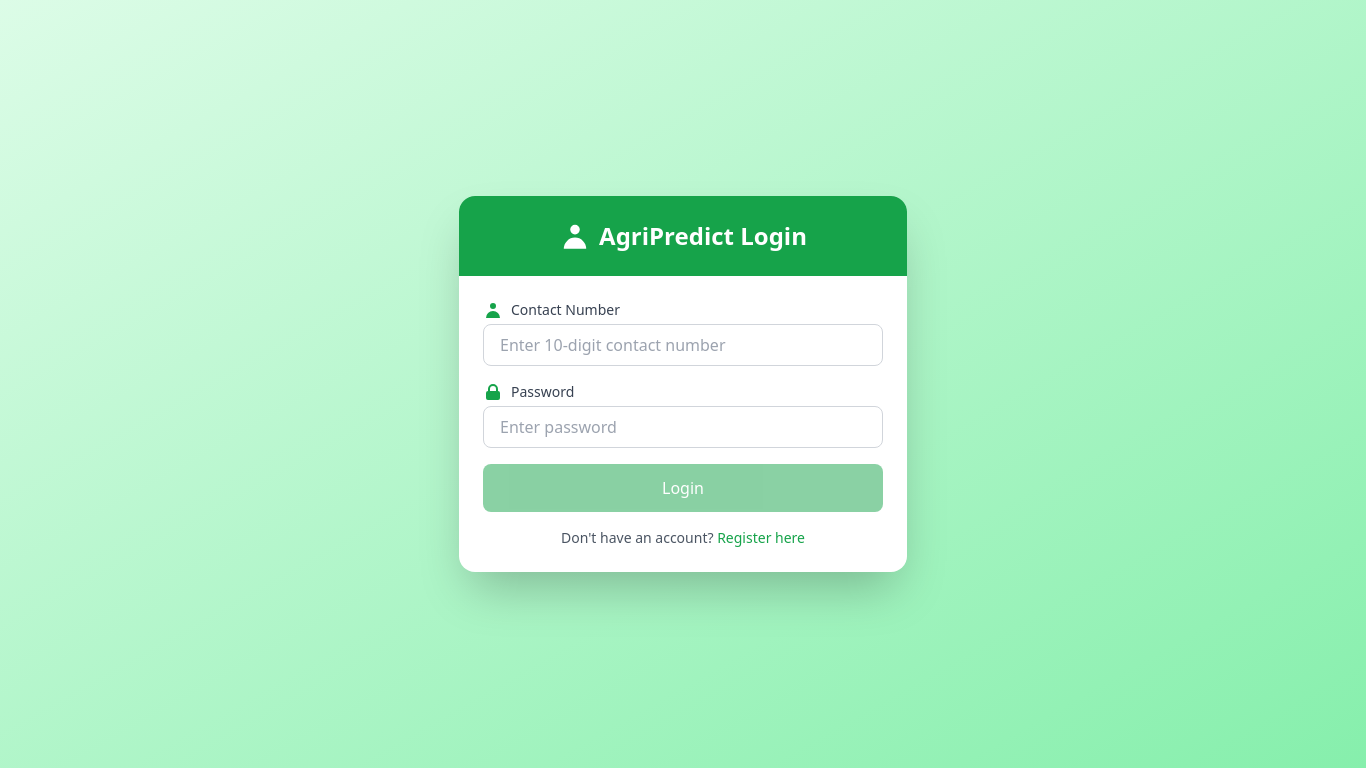
Login Component › displays error message when login fails
The image size is (1366, 768).
In the field with placeholder "Enter 10-digit contact number": (683, 345) [483,324,883,366], type "9876543210"
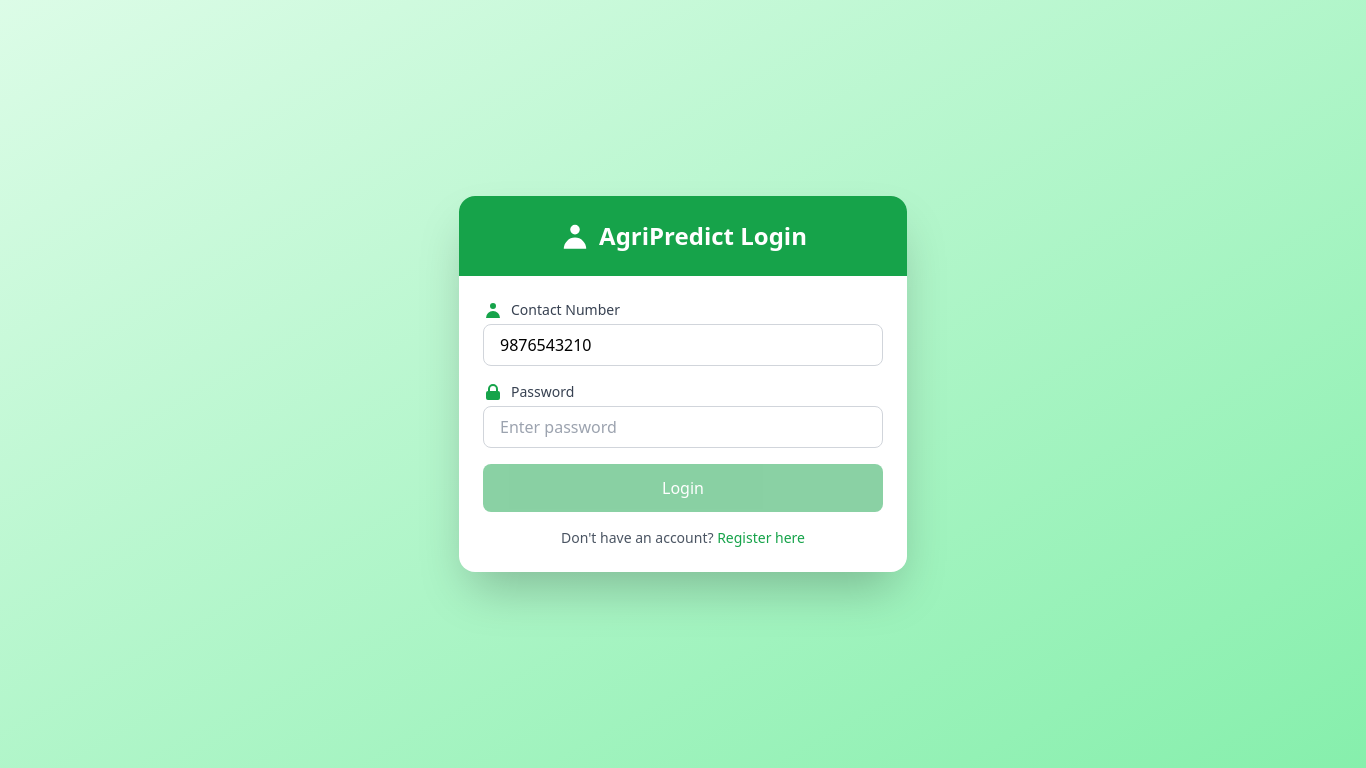
In the password field with placeholder "Enter password": (683, 427) [483,406,883,448], type "WrongPass123"
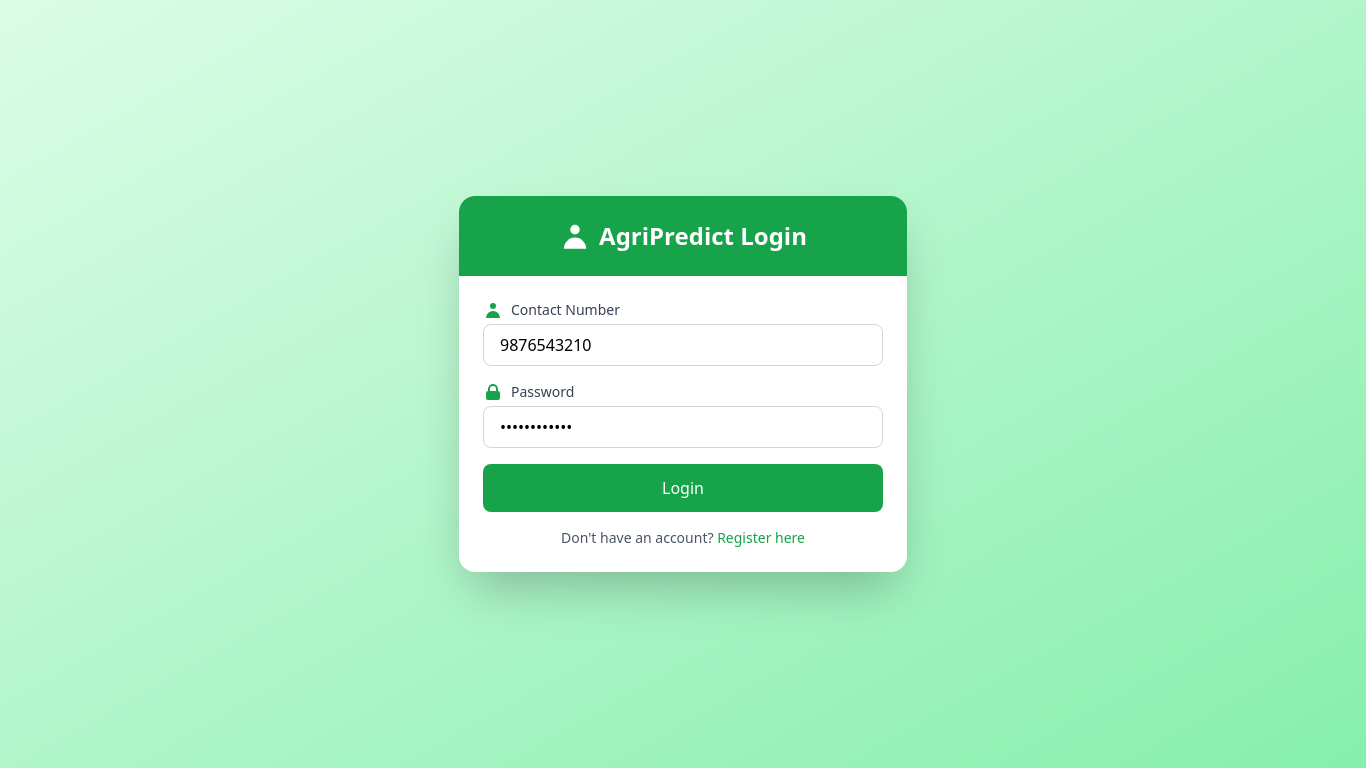
Click the button "Login": click(683, 488) [483,464,883,512]
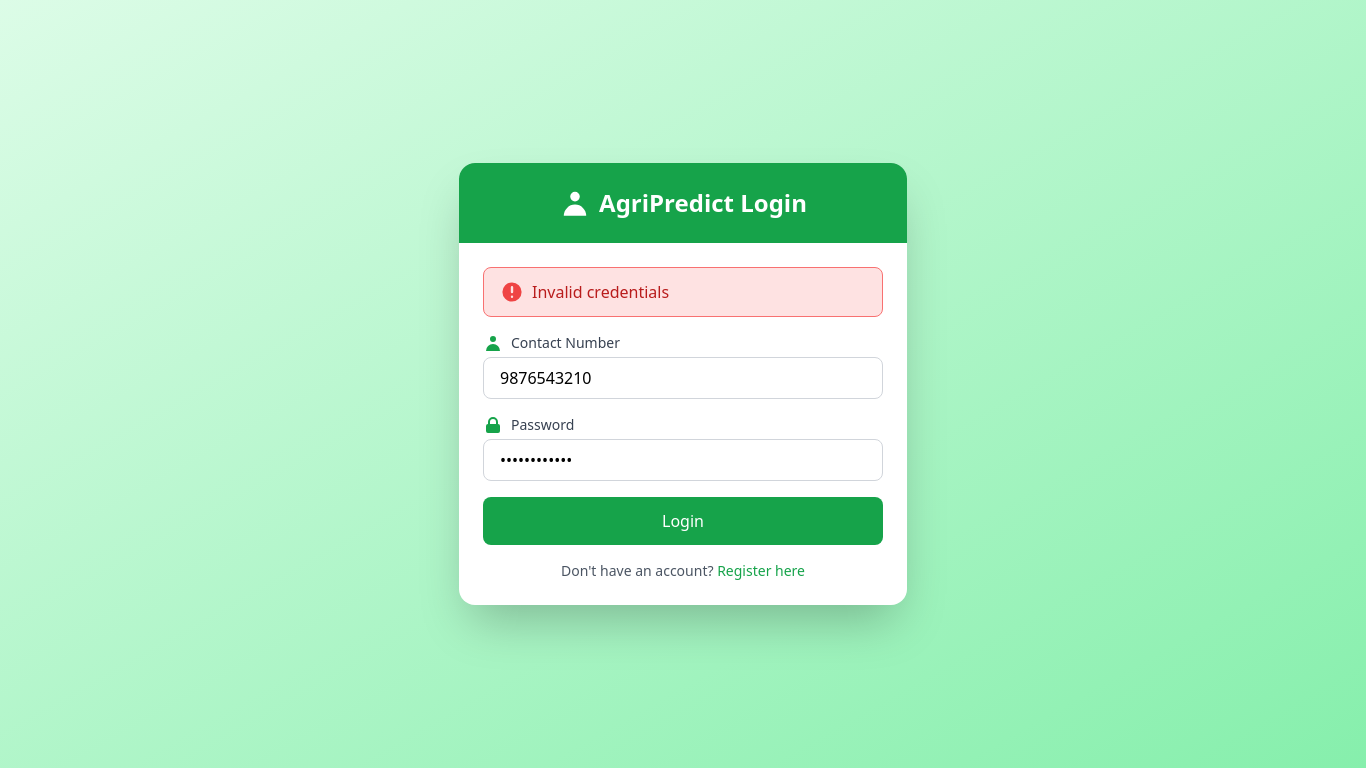
Expected: the text "Invalid credentials" is shown, [483,267,883,317]
